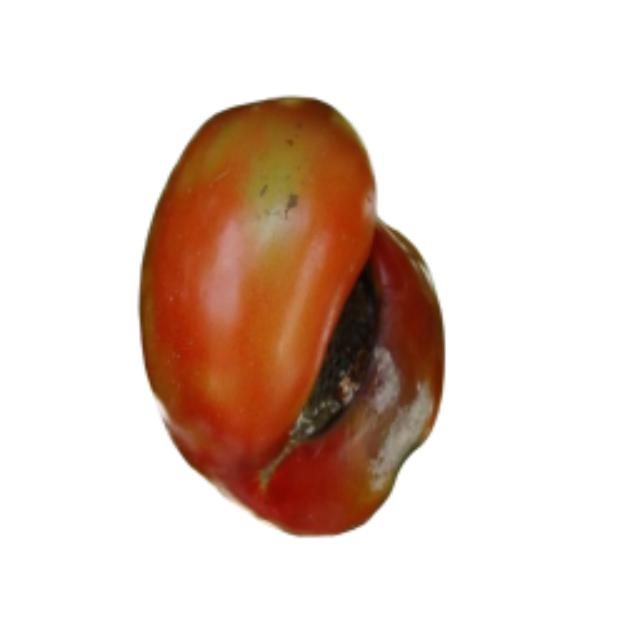defect: (133, 91, 446, 541)
